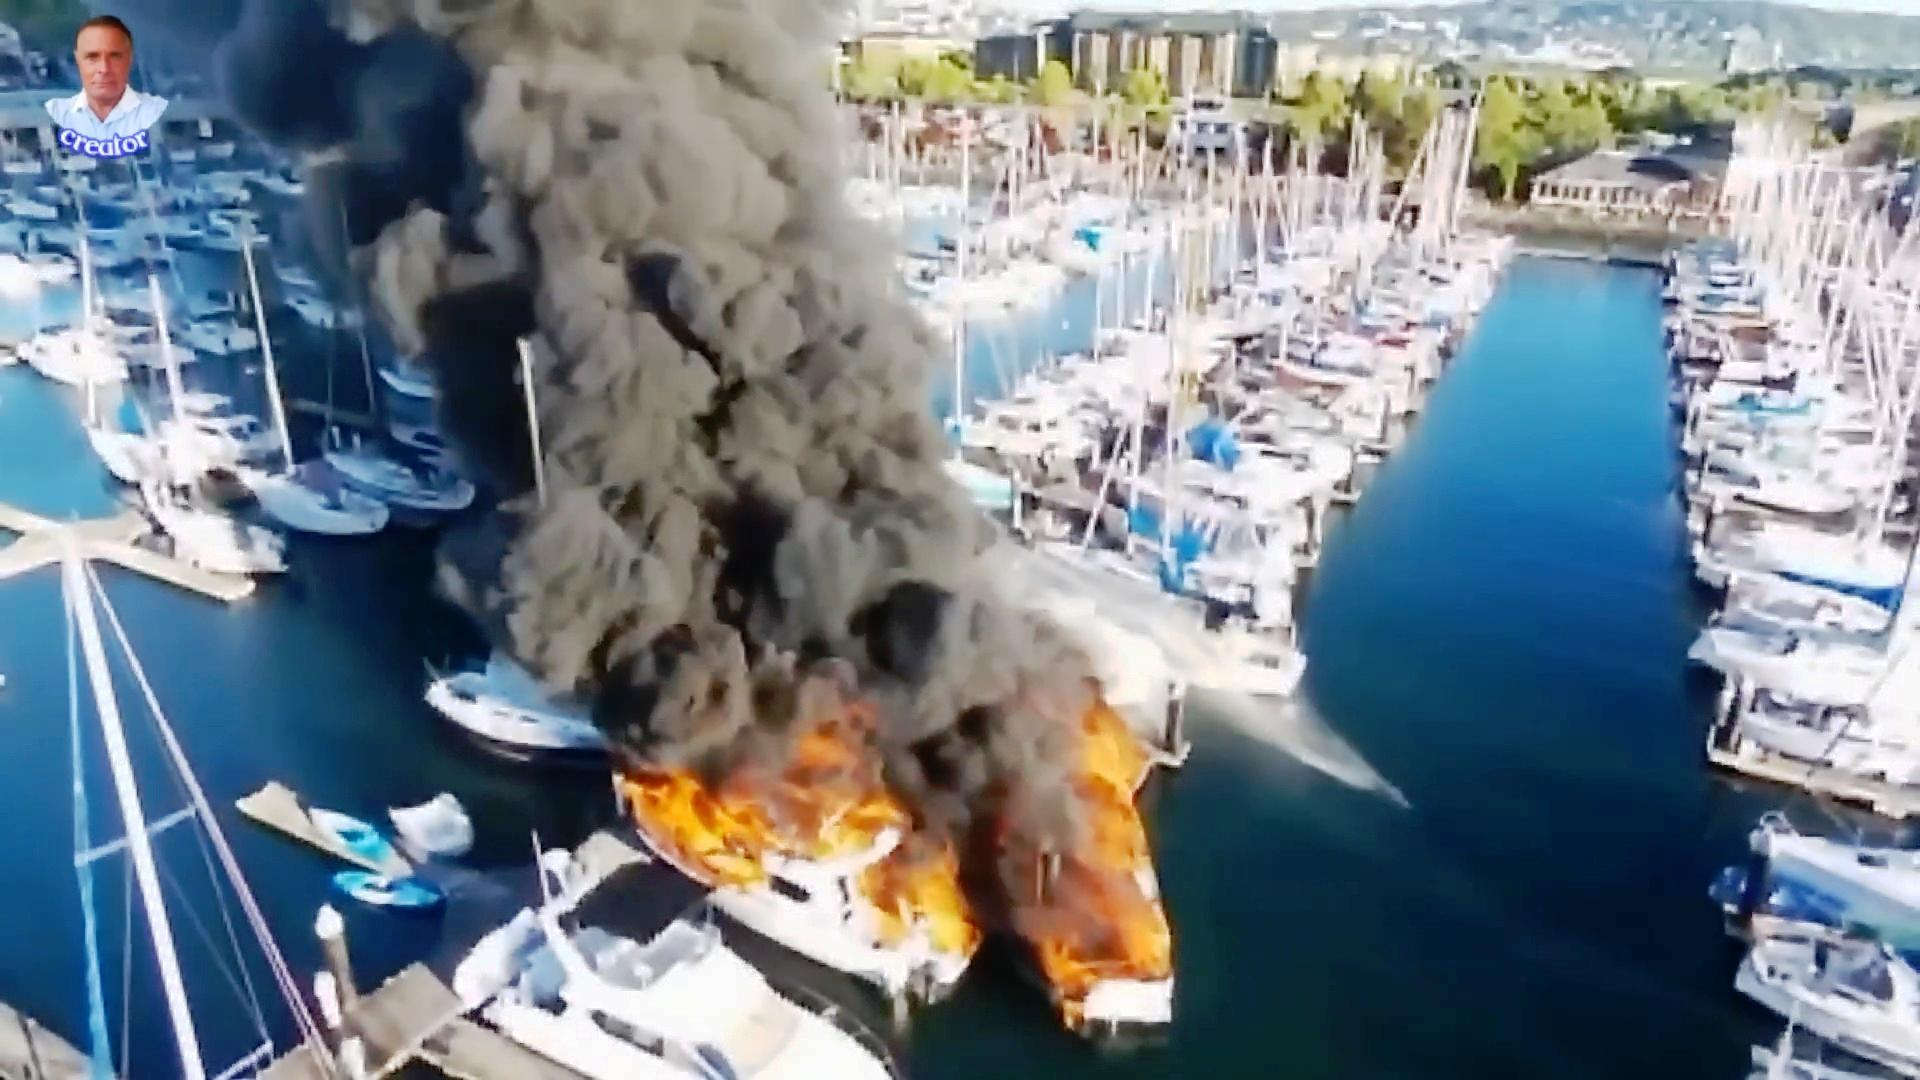fire: (618, 716, 857, 872), (1029, 725, 1168, 984)
smoke: (481, 216, 887, 663), (518, 153, 880, 591), (396, 0, 833, 324)
